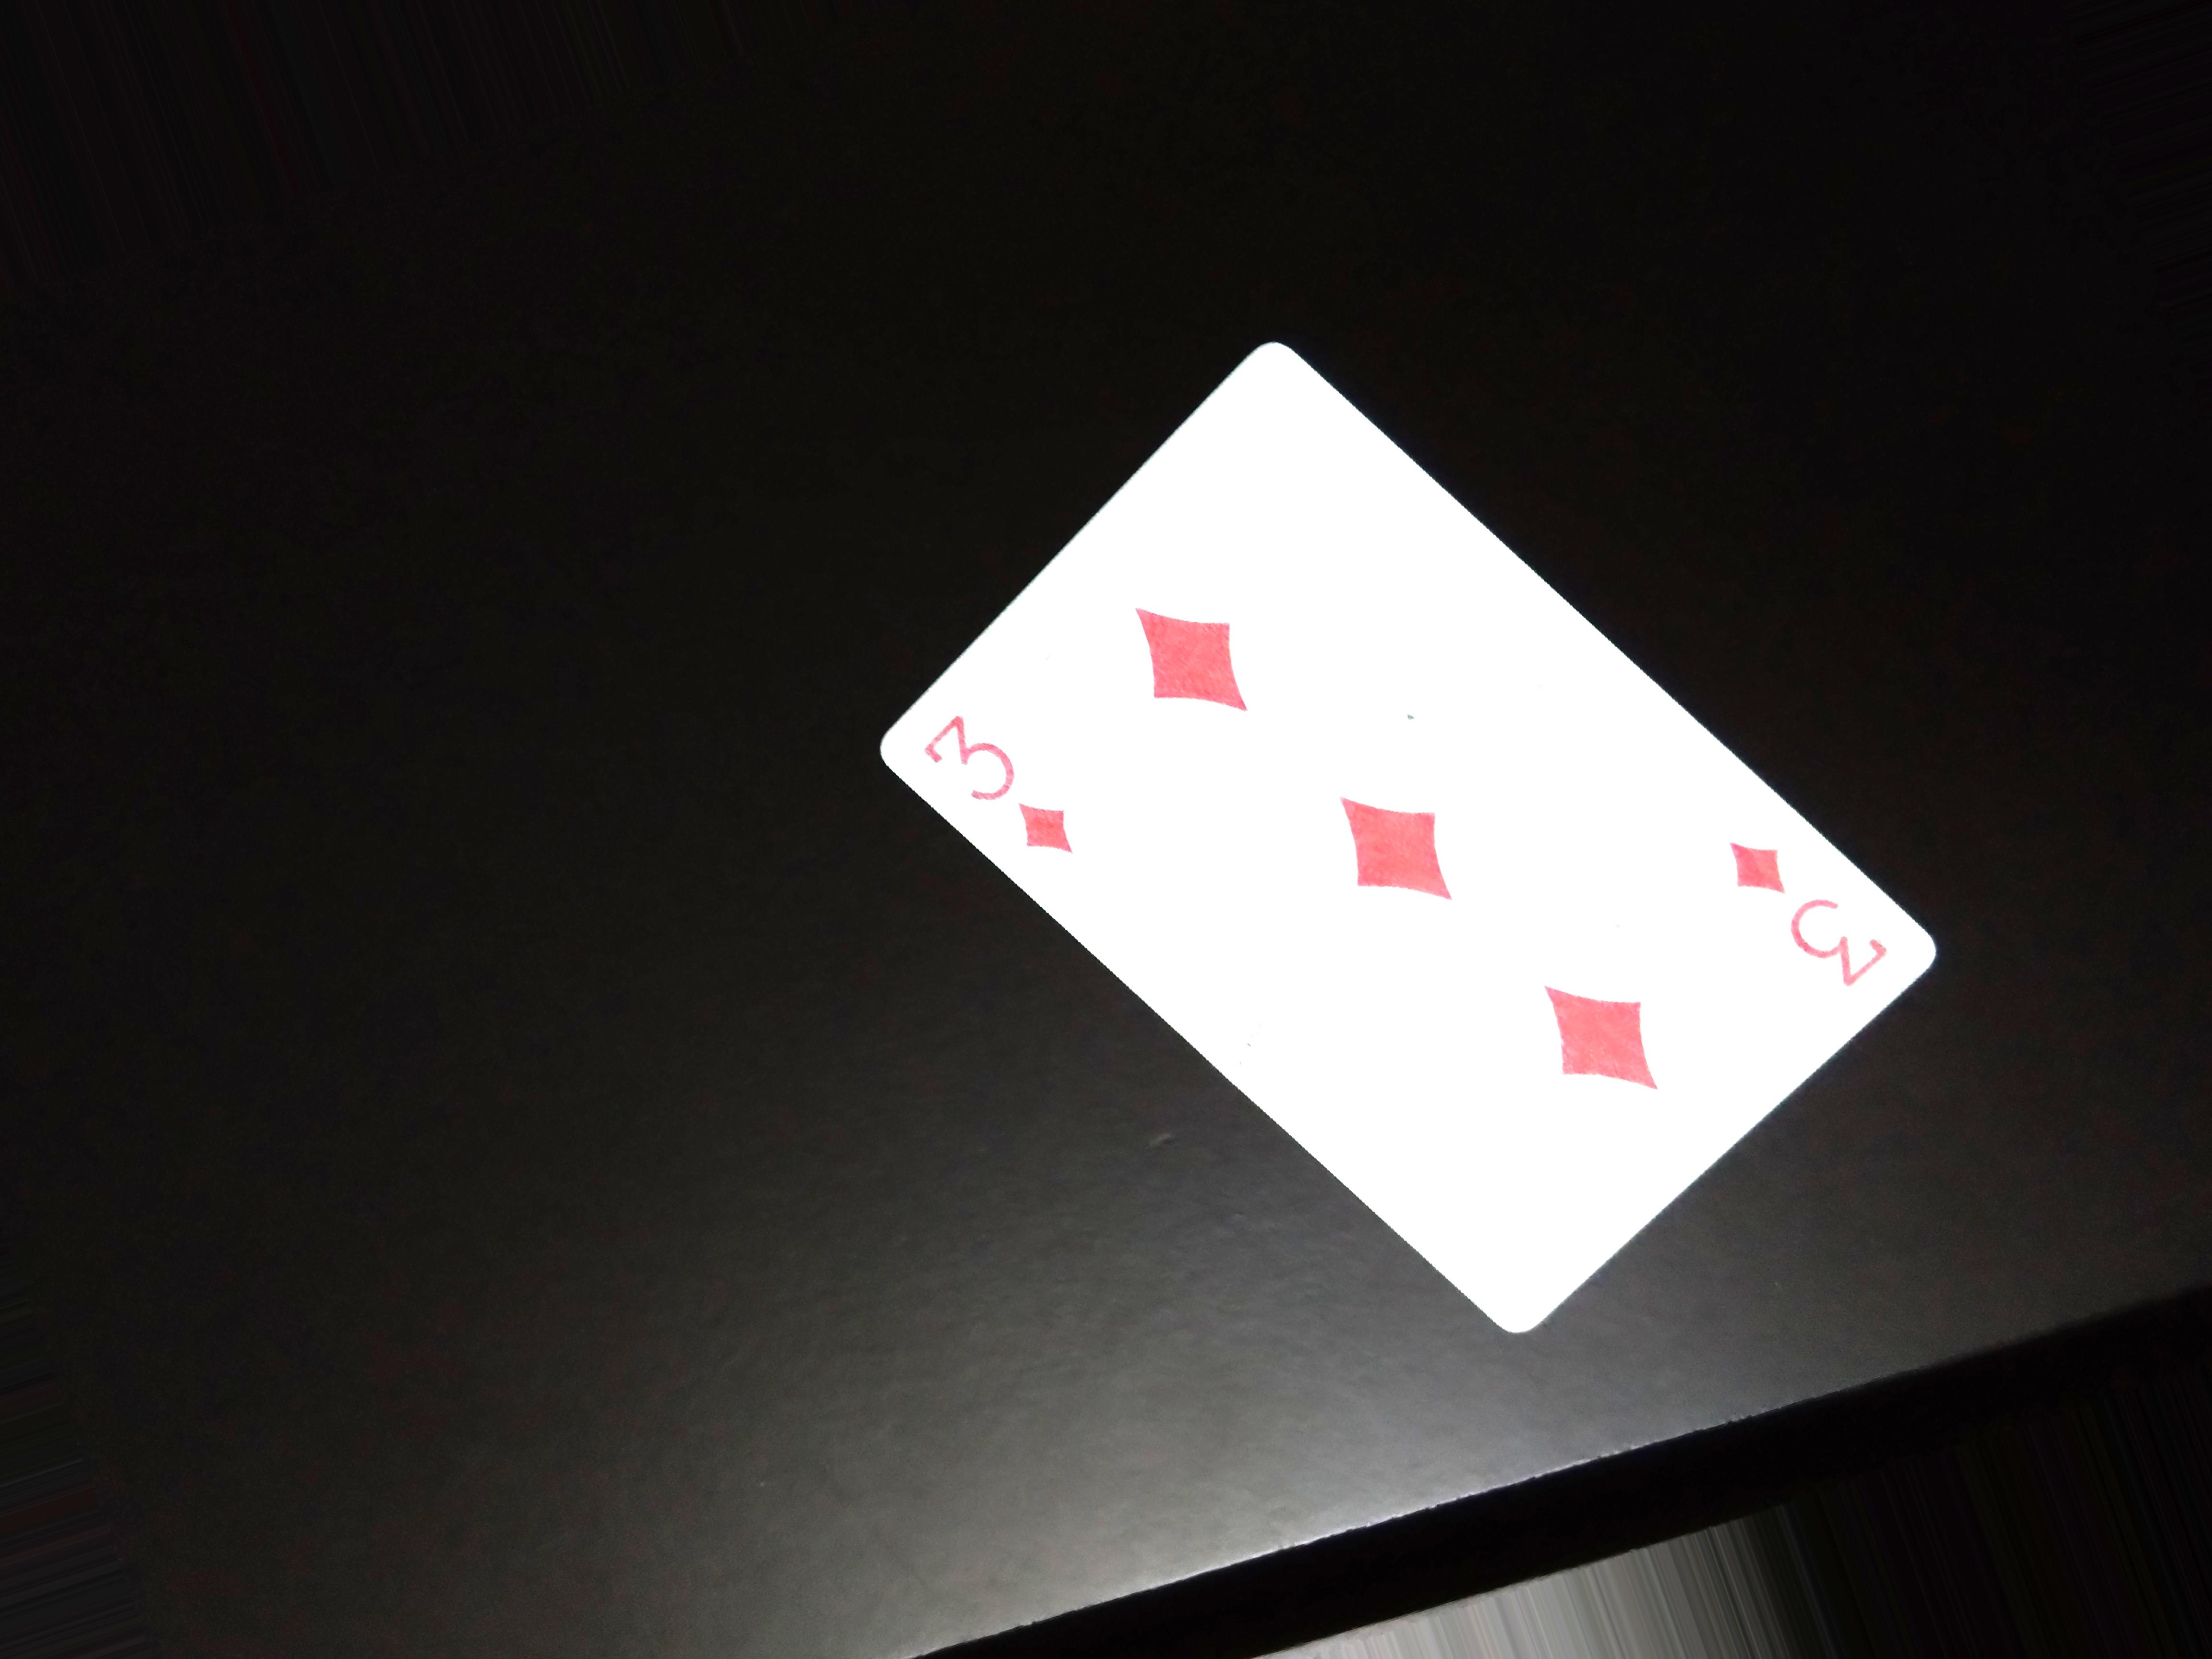3D: (895, 706, 1090, 863)
